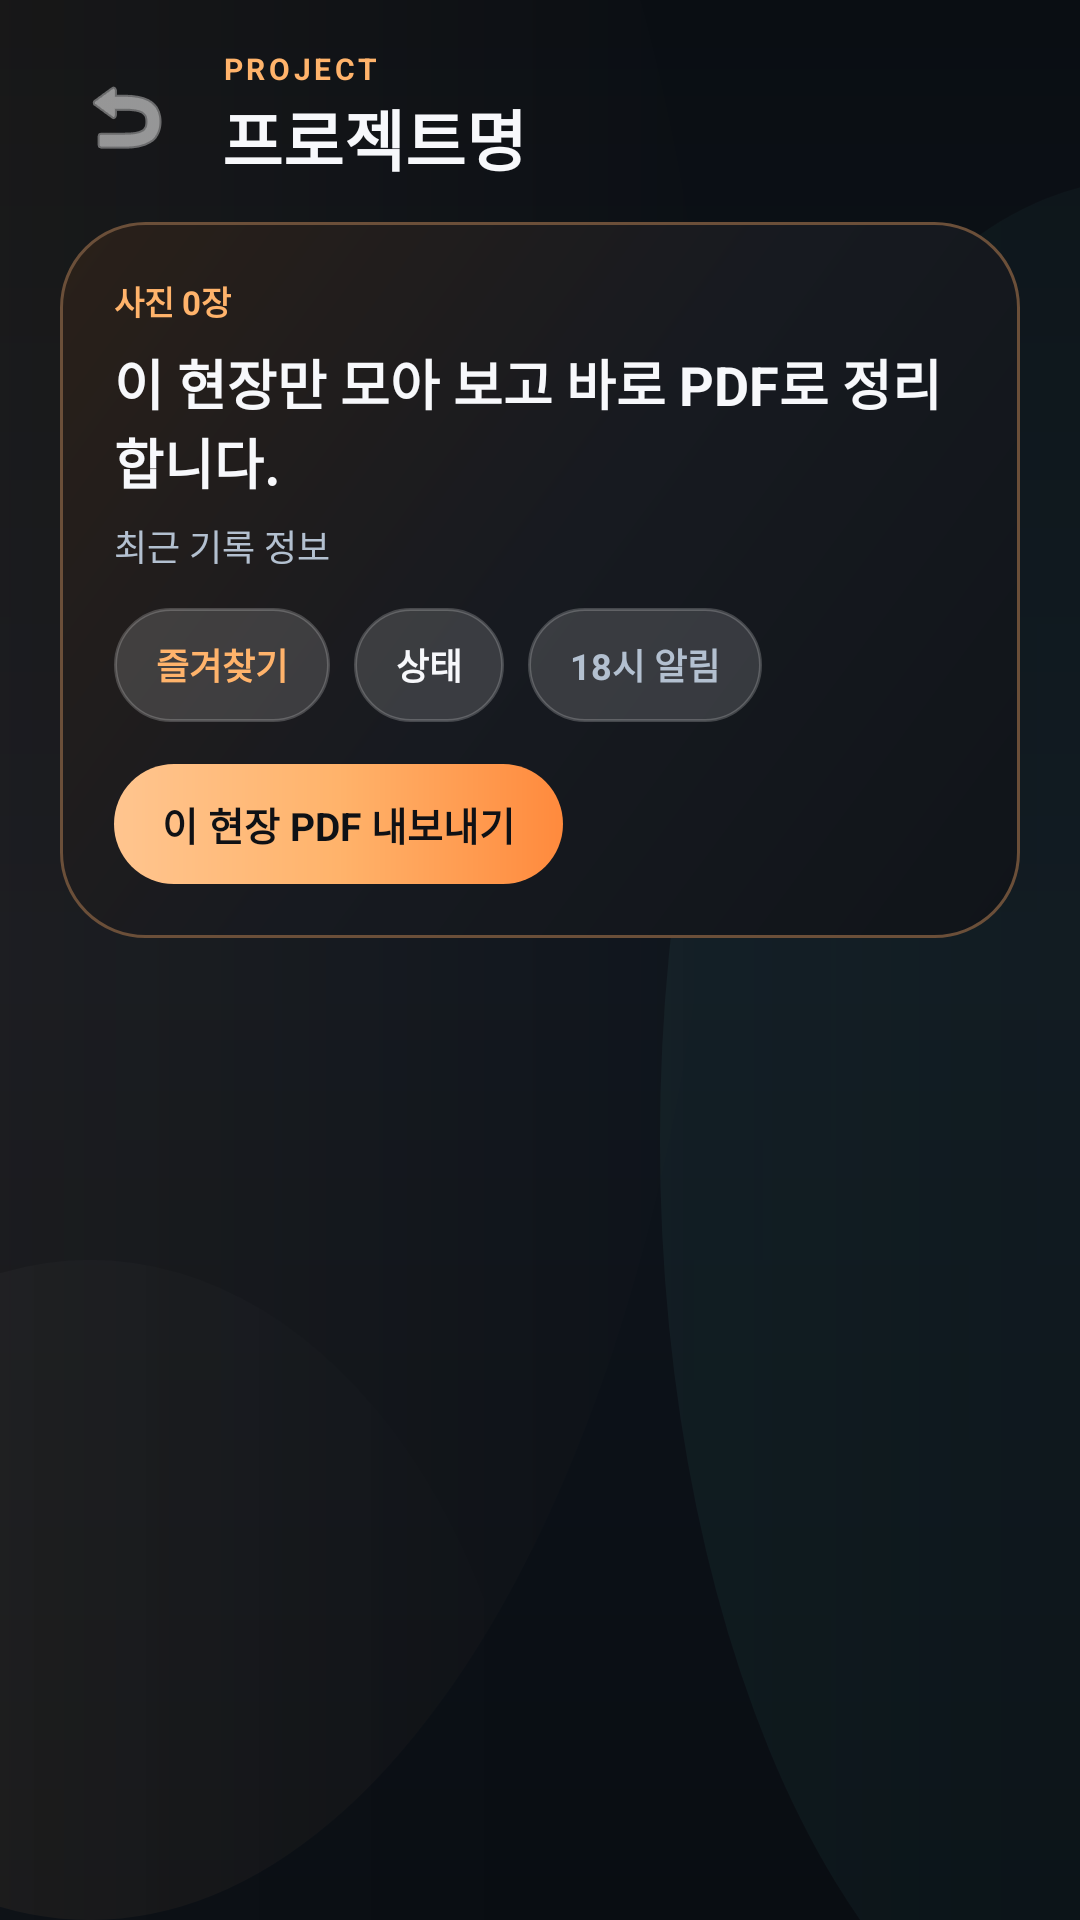

Screen size 1080px×1920px. Icon name, then its box in pixels as (left=x1, top=y1, right=x2, bottom=y2):
revert: (left=93, top=86, right=162, bottom=149)
